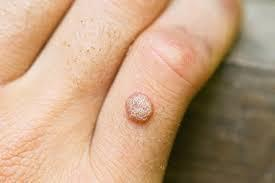flat_wart: (122, 90, 159, 131)
